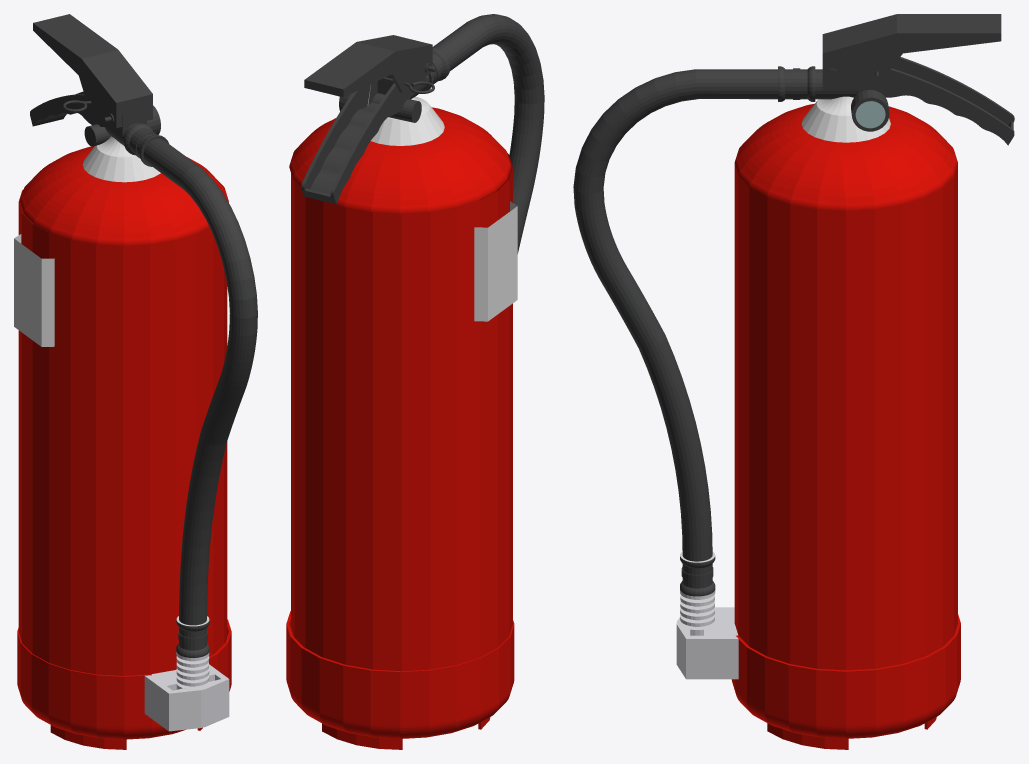
The model's file is fire extinguisher.fbx.
3 renders of one model, left to right at view 1: azimuth 30°, elevation 25°; view 2: azimuth 150°, elevation 25°; view 3: azimuth 270°, elevation 25°, orthographic. The views are drawn at different scales.
Visible parts, largest first — view 1: Extintor_0; view 2: Extintor_0; view 3: Extintor_0.
Part boxes in pixels (x1,y1,x2,y2): Extintor_0: (14, 14, 257, 749); Extintor_0: (286, 14, 544, 749); Extintor_0: (573, 14, 1014, 749).
Size of the model in its own units: 136 by 441 by 257.
